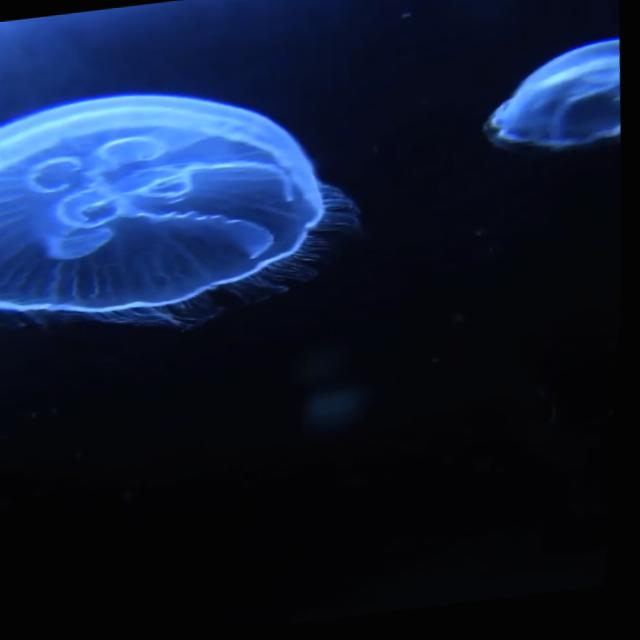Moon-jellyfish: (0, 24, 476, 334), (485, 43, 622, 157)
